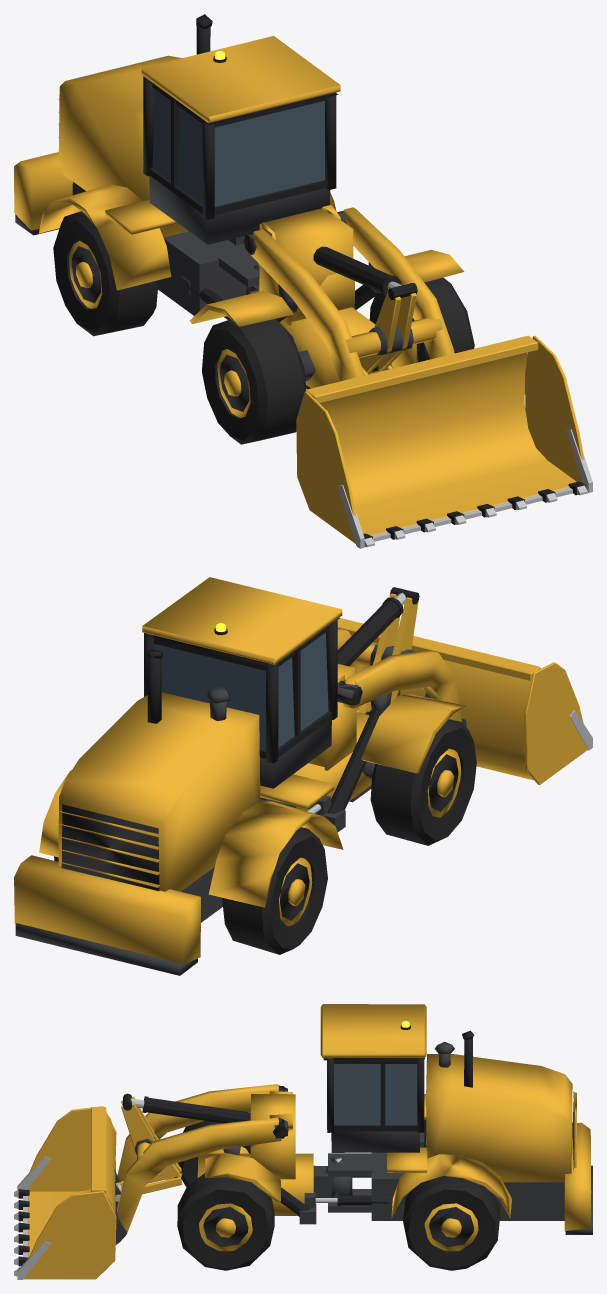
The model's file is loader_LOD1.glb.
3 views of the same model, one above another, from view 1: azimuth 30°, elevation 25°; view 2: azimuth 150°, elevation 25°; view 3: azimuth 270°, elevation 25° (orthographic). The views are drawn at different scales.
Parts seen in each view (by area): view 1: Bucket_LOD1, Cab_LOD1, RearFrame_LOD1, FrontFrame_LOD1, Boom_LOD1, WheelFrontRight_LOD1, WheelRearRight_LOD1, WheelFrontLeft_LOD1, Bellcrank_LOD1, TiltCylinder_LOD1; view 2: RearFrame_LOD1, Cab_LOD1, Bucket_LOD1, FrontFrame_LOD1, WheelFrontRight_LOD1, WheelRearRight_LOD1, Boom_LOD1, Bellcrank_LOD1, TiltCylinder_LOD1, LiftCylinderRight_LOD1; view 3: RearFrame_LOD1, Bucket_LOD1, Cab_LOD1, Boom_LOD1, FrontFrame_LOD1, WheelFrontLeft_LOD1, WheelRearLeft_LOD1, TiltCylinder_LOD1, Bellcrank_LOD1, WheelFrontRight_LOD1, BucketLink_LOD1, SteerCylinderLeft_LOD1 (+1 smaller).
Boxes of the visible parts, box(x1,y1,x2,y2) form: Bucket_LOD1: box(296, 335, 592, 548); Cab_LOD1: box(141, 36, 340, 244); RearFrame_LOD1: box(14, 14, 336, 320); FrontFrame_LOD1: box(190, 204, 464, 389); Boom_LOD1: box(243, 207, 454, 381); WheelFrontRight_LOD1: box(202, 318, 306, 444); WheelRearRight_LOD1: box(53, 211, 158, 336); WheelFrontLeft_LOD1: box(369, 277, 474, 368); Bellcrank_LOD1: box(359, 283, 417, 374); TiltCylinder_LOD1: box(313, 246, 401, 295); RearFrame_LOD1: box(14, 649, 343, 975); Cab_LOD1: box(142, 577, 342, 788); Bucket_LOD1: box(337, 617, 592, 784); FrontFrame_LOD1: box(274, 663, 465, 832); WheelFrontRight_LOD1: box(370, 719, 476, 845); WheelRearRight_LOD1: box(222, 827, 327, 954); Boom_LOD1: box(337, 628, 462, 722); Bellcrank_LOD1: box(359, 587, 419, 715); TiltCylinder_LOD1: box(337, 597, 403, 666); LiftCylinderRight_LOD1: box(327, 709, 382, 813); RearFrame_LOD1: box(328, 1030, 592, 1234); Bucket_LOD1: box(14, 1106, 126, 1279); Cab_LOD1: box(320, 1004, 426, 1152); Boom_LOD1: box(117, 1084, 288, 1233); FrontFrame_LOD1: box(197, 1085, 352, 1224); WheelFrontLeft_LOD1: box(177, 1173, 274, 1270); WheelRearLeft_LOD1: box(403, 1176, 500, 1270); TiltCylinder_LOD1: box(142, 1096, 250, 1123); Bellcrank_LOD1: box(121, 1093, 181, 1179); WheelFrontRight_LOD1: box(177, 1121, 250, 1187); BucketLink_LOD1: box(115, 1171, 182, 1194); SteerCylinderLeft_LOD1: box(337, 1195, 390, 1205).
Bounding box in the file's own units: 2.99 × 3.46 × 8.47.
